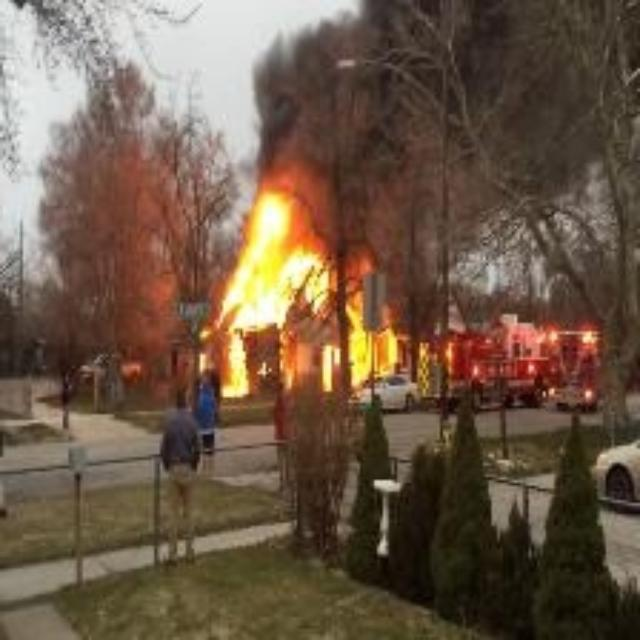fire: (191, 191, 397, 400)
smoke: (249, 3, 589, 211)
